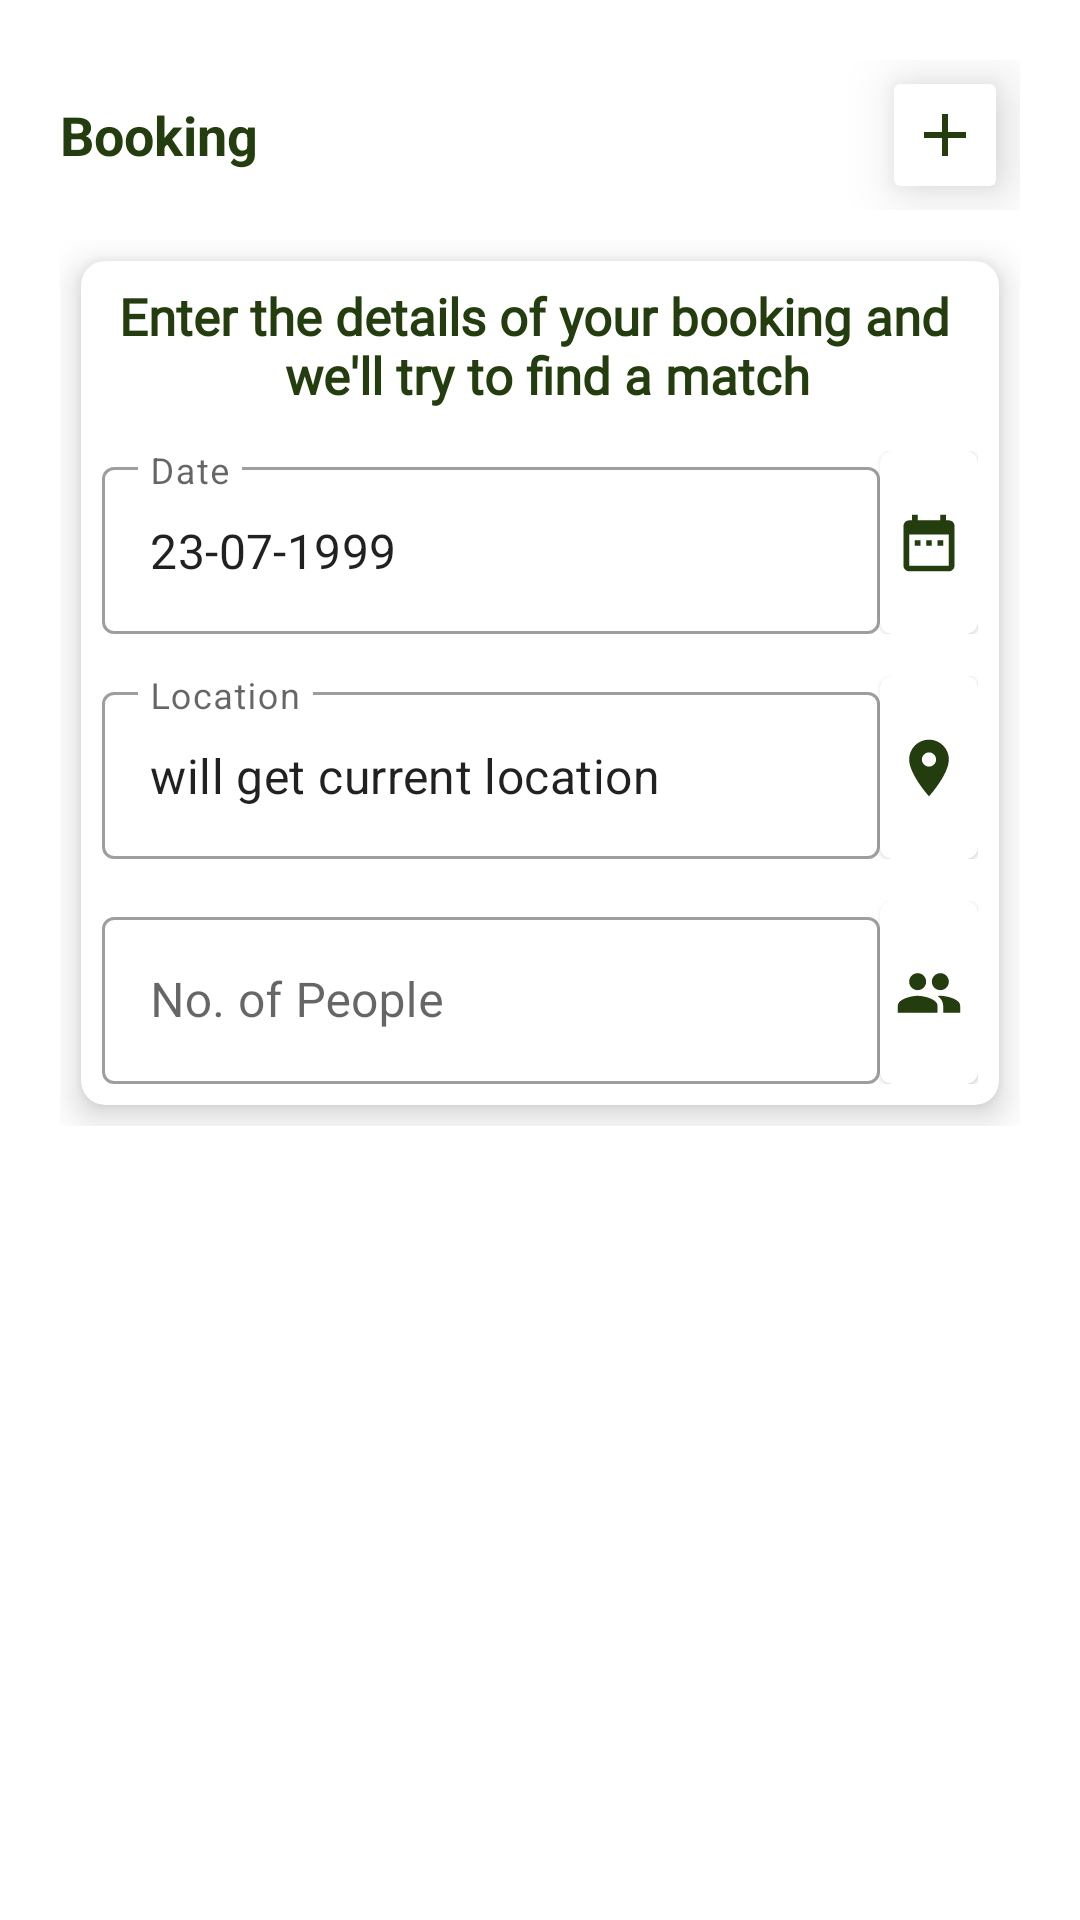

Screen size 1080 x 1920. Icon name, then its center in pixels as (x=x, y=y):
add: (x=945, y=135)
